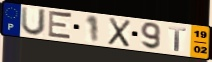1: (84, 15, 100, 45)
9: (139, 22, 162, 50)
E: (46, 9, 74, 42)
T: (168, 25, 188, 52)
U: (19, 6, 48, 37)
X: (107, 17, 133, 49)
